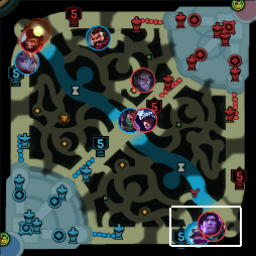akali: (117, 107, 141, 133)
braum: (185, 220, 210, 244)
graves: (86, 24, 110, 51)
kalista: (204, 216, 226, 240)
monkeyking: (18, 26, 42, 51)
poppy: (15, 50, 39, 75)
sylas: (130, 67, 156, 92)
talon: (133, 106, 157, 132)
taric: (197, 210, 220, 235)
